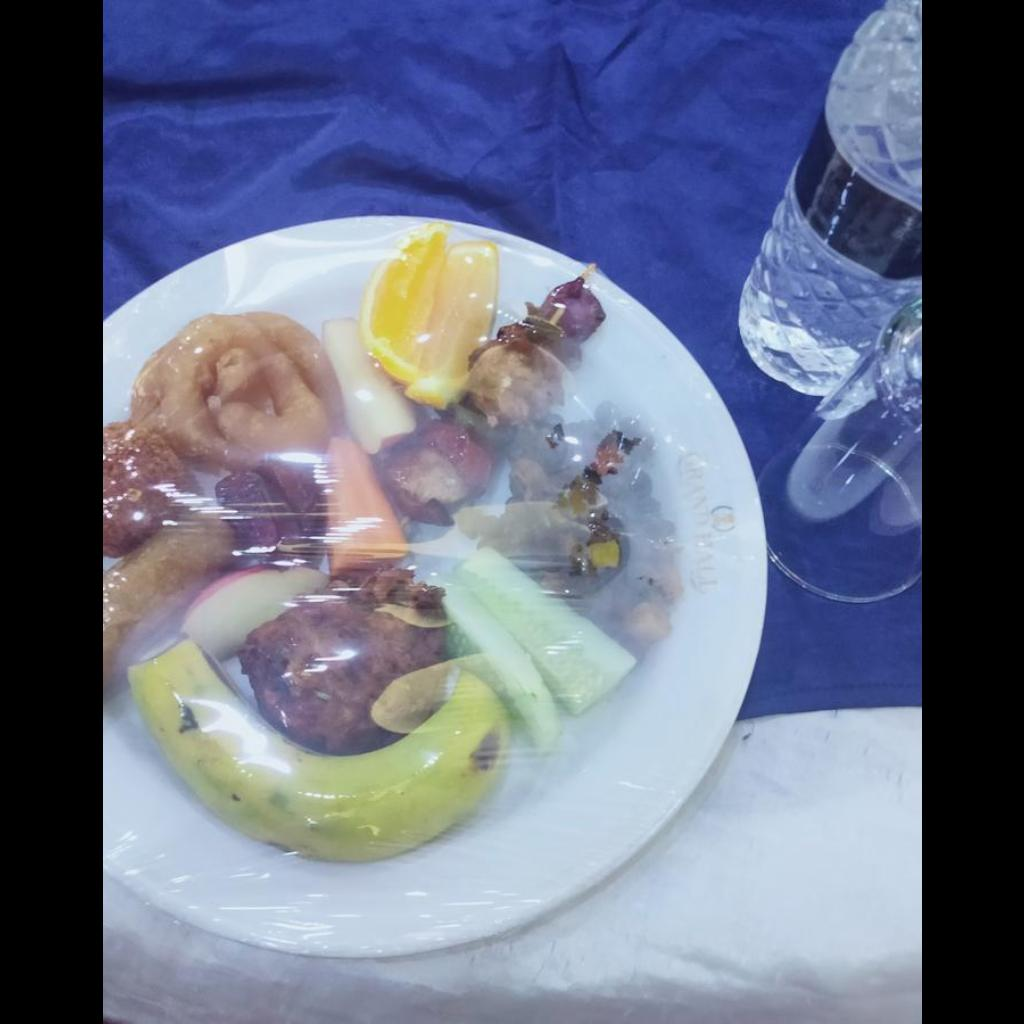apple: (179, 569, 325, 658)
banana: (116, 637, 505, 856)
chicken: (372, 272, 603, 526)
chola: (462, 408, 679, 660)
cucumber: (447, 547, 631, 746)
dates: (214, 456, 326, 565)
jilapi: (126, 317, 333, 458)
mango: (324, 438, 407, 573)
orange: (368, 225, 501, 395)
piyaju: (237, 567, 448, 754)
roll: (102, 519, 229, 685)
sweets: (102, 421, 187, 556)
